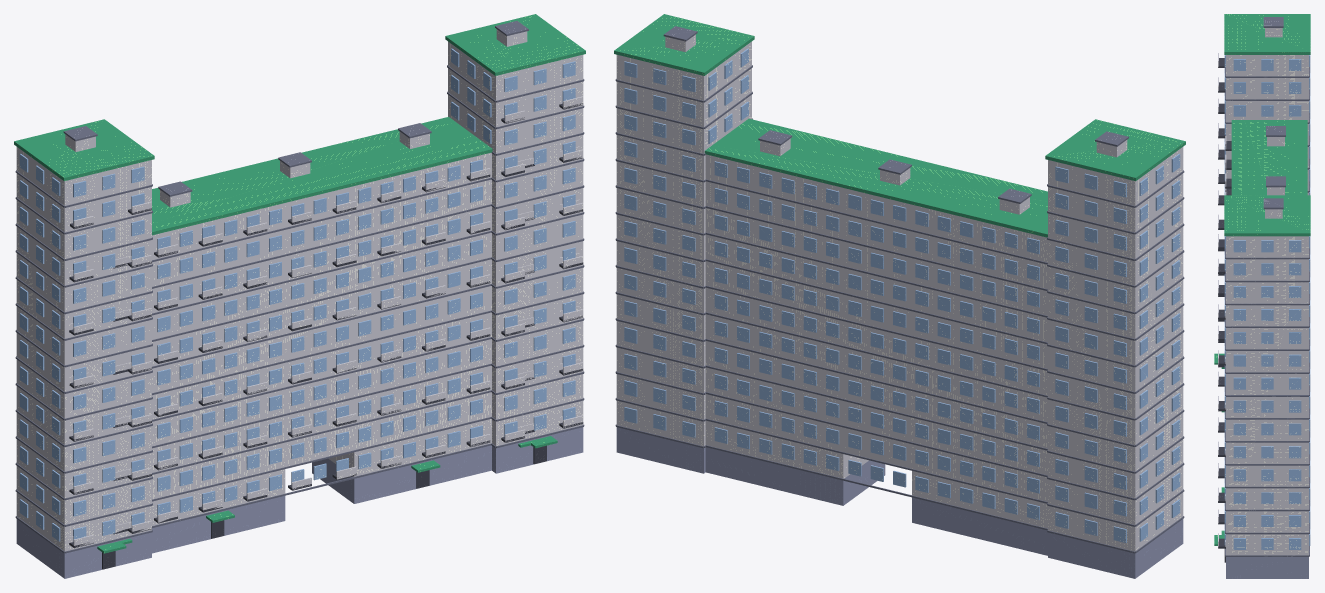
Rendered from panel-5x1-l3.glb.
3 renders of one model, left to right at view 1: azimuth 30°, elevation 25°; view 2: azimuth 150°, elevation 25°; view 3: azimuth 270°, elevation 25°, orthographic. The views are drawn at different scales.
Parts seen in each view (by area): view 1: panel-5x1-l3; view 2: panel-5x1-l3; view 3: panel-5x1-l3.
Part boxes in pixels (<box>): panel-5x1-l3: <box>14,14,585,578</box>; panel-5x1-l3: <box>614,14,1185,578</box>; panel-5x1-l3: <box>1214,14,1310,578</box>.
Size of the model in its own units: 9.86 by 7.49 by 1.83.
Materials: 1 (1 with a texture image).
